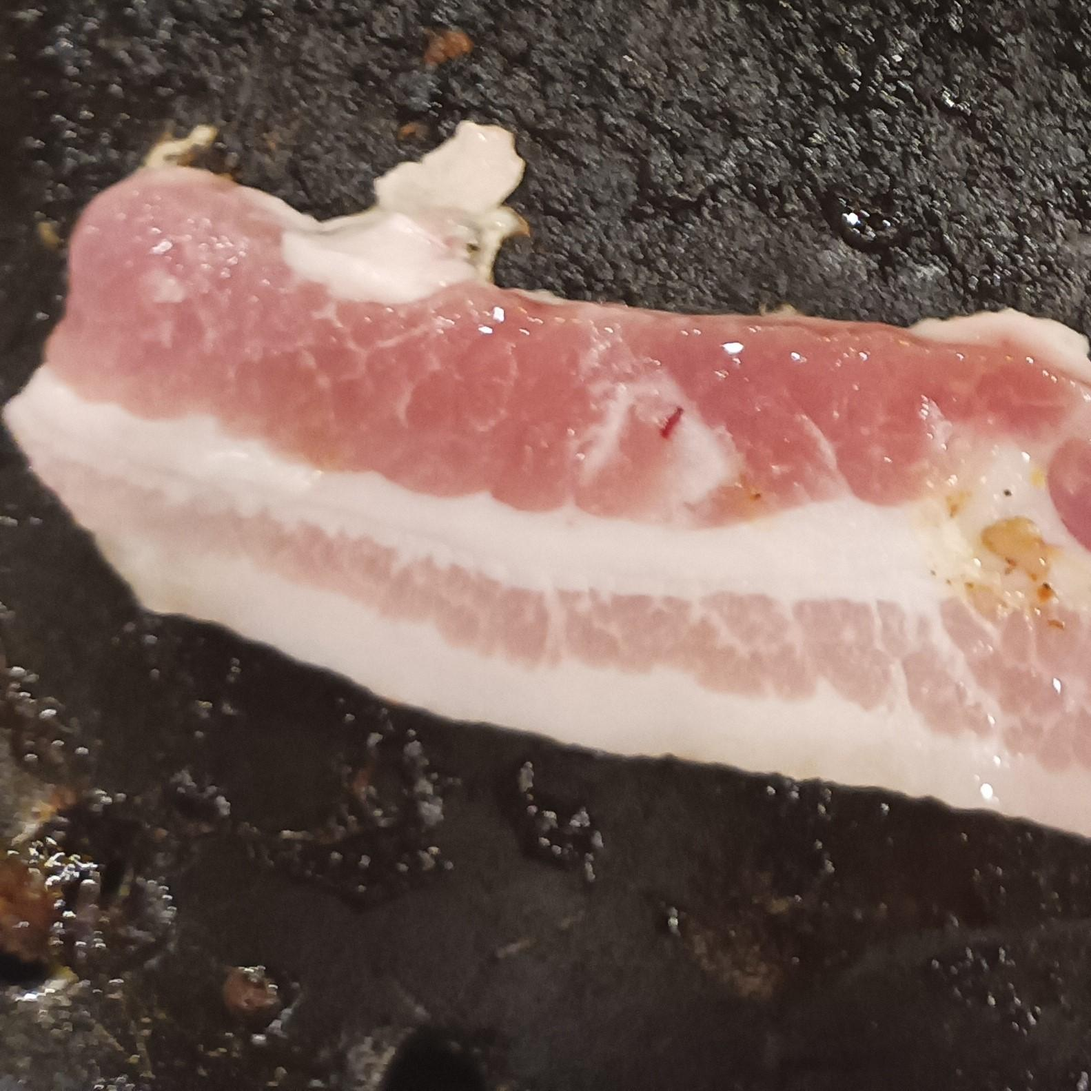Undercooked: (0, 126, 1090, 844)
